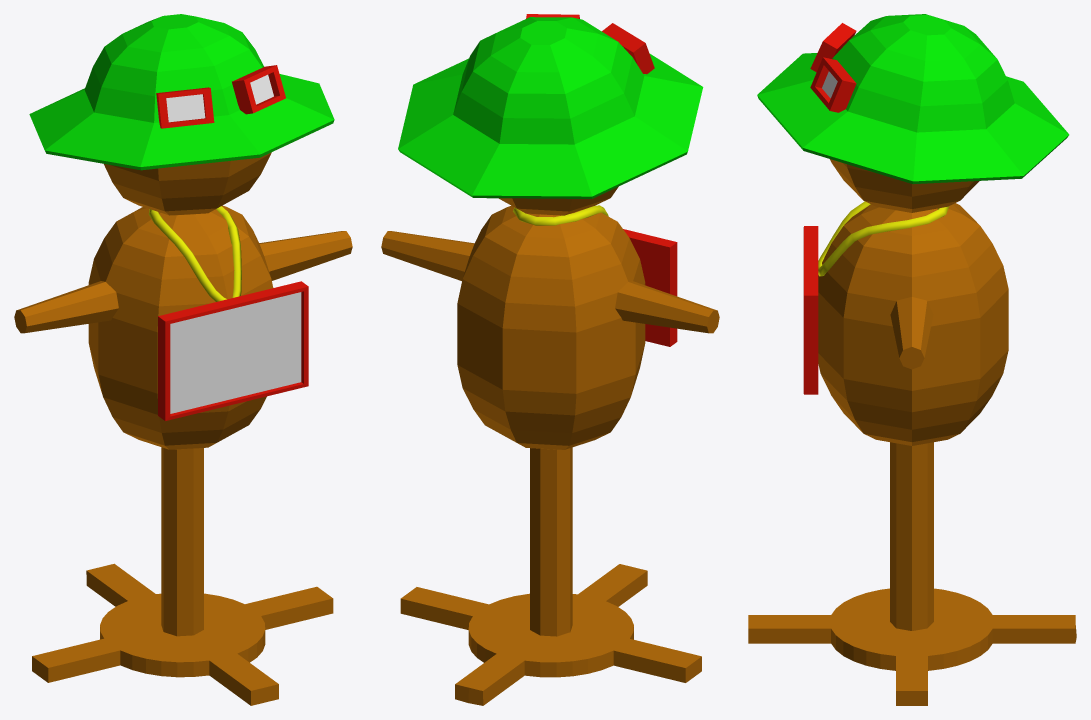
The model's file is targetdummy.fbx.
3 views of the same model, side by side, from view 1: azimuth 30°, elevation 25°; view 2: azimuth 150°, elevation 25°; view 3: azimuth 270°, elevation 25° (orthographic).
Parts seen in each view (by area): view 1: Hat, Stand, Body, Board, Head, Stand.001, Rope; view 2: Hat, Body, Stand, Stand.001, Board, Head, Rope; view 3: Hat, Body, Stand, Head, Board, Stand.001, Rope.
Boxes of the visible parts, bbox=[...] form: Hat: bbox=[29, 14, 334, 170]; Stand: bbox=[32, 447, 333, 705]; Body: bbox=[88, 205, 273, 449]; Board: bbox=[158, 281, 308, 420]; Head: bbox=[104, 152, 271, 215]; Stand.001: bbox=[14, 231, 352, 333]; Rope: bbox=[148, 206, 241, 301]; Hat: bbox=[398, 14, 703, 198]; Body: bbox=[457, 205, 645, 449]; Stand: bbox=[400, 447, 701, 705]; Stand.001: bbox=[381, 231, 719, 333]; Board: bbox=[623, 229, 677, 346]; Head: bbox=[499, 186, 618, 215]; Rope: bbox=[513, 205, 608, 225]; Hat: bbox=[757, 14, 1069, 184]; Body: bbox=[818, 203, 1008, 445]; Stand: bbox=[748, 442, 1076, 705]; Head: bbox=[830, 159, 979, 212]; Board: bbox=[803, 226, 818, 394]; Stand.001: bbox=[890, 297, 933, 369]; Rope: bbox=[818, 201, 949, 276].
Size of the model in its own units: 95.53 by 173 by 83.89.
